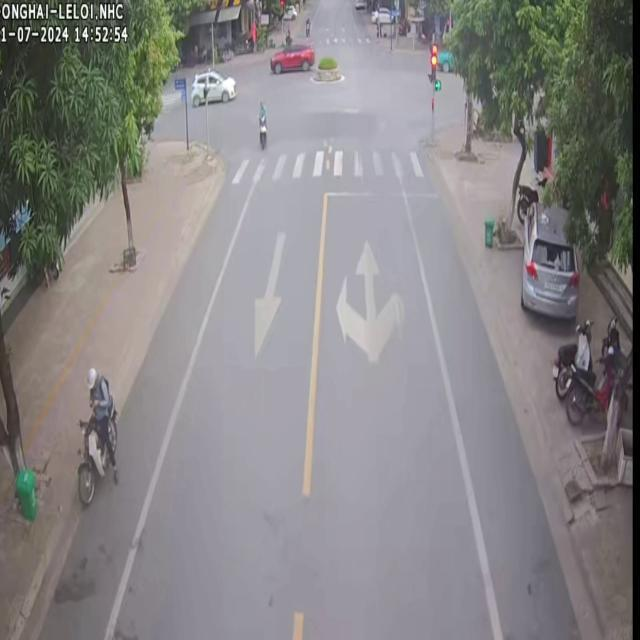car: (519, 200, 577, 317), (188, 67, 234, 105), (268, 42, 313, 71)
motobike: (76, 365, 117, 502), (564, 347, 614, 422), (550, 318, 590, 398), (257, 100, 266, 147)
red_light: (430, 42, 437, 83)
stop_line: (327, 191, 441, 198)
